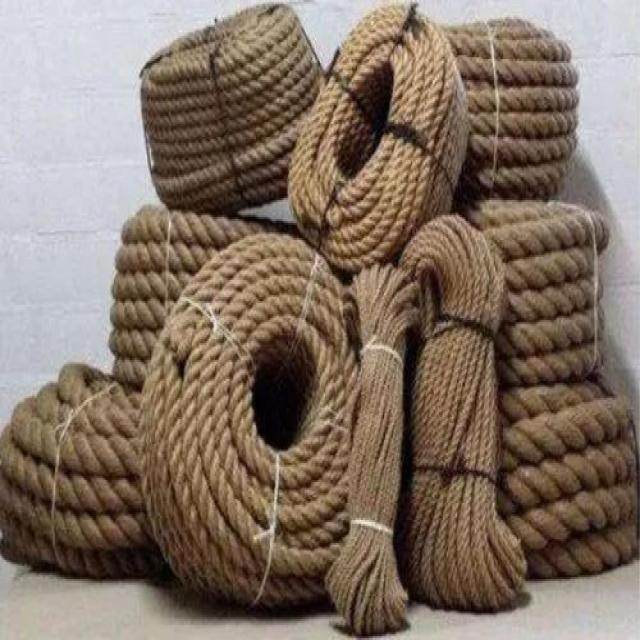Rope: (495, 200, 640, 582)
